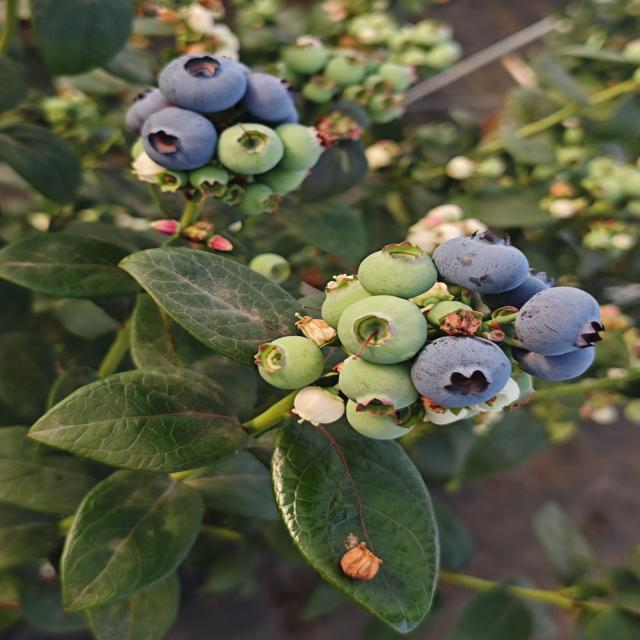ripe: (408, 332, 514, 410), (512, 285, 606, 359), (152, 45, 250, 115), (430, 229, 531, 296), (510, 333, 602, 396), (134, 114, 207, 174), (243, 58, 301, 124), (110, 76, 172, 135), (474, 272, 555, 314)
